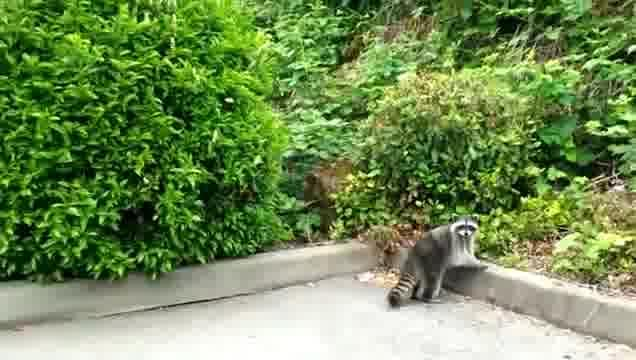raccoon: (384, 214, 494, 312)
